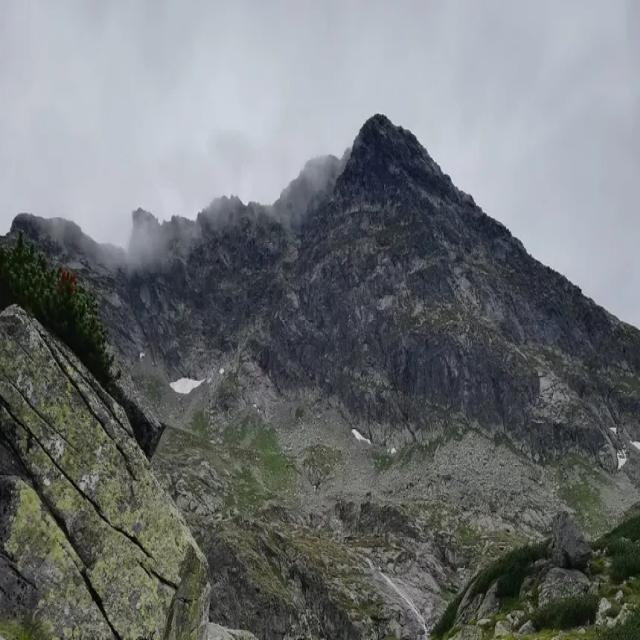Swinica: (286, 30, 475, 202)
